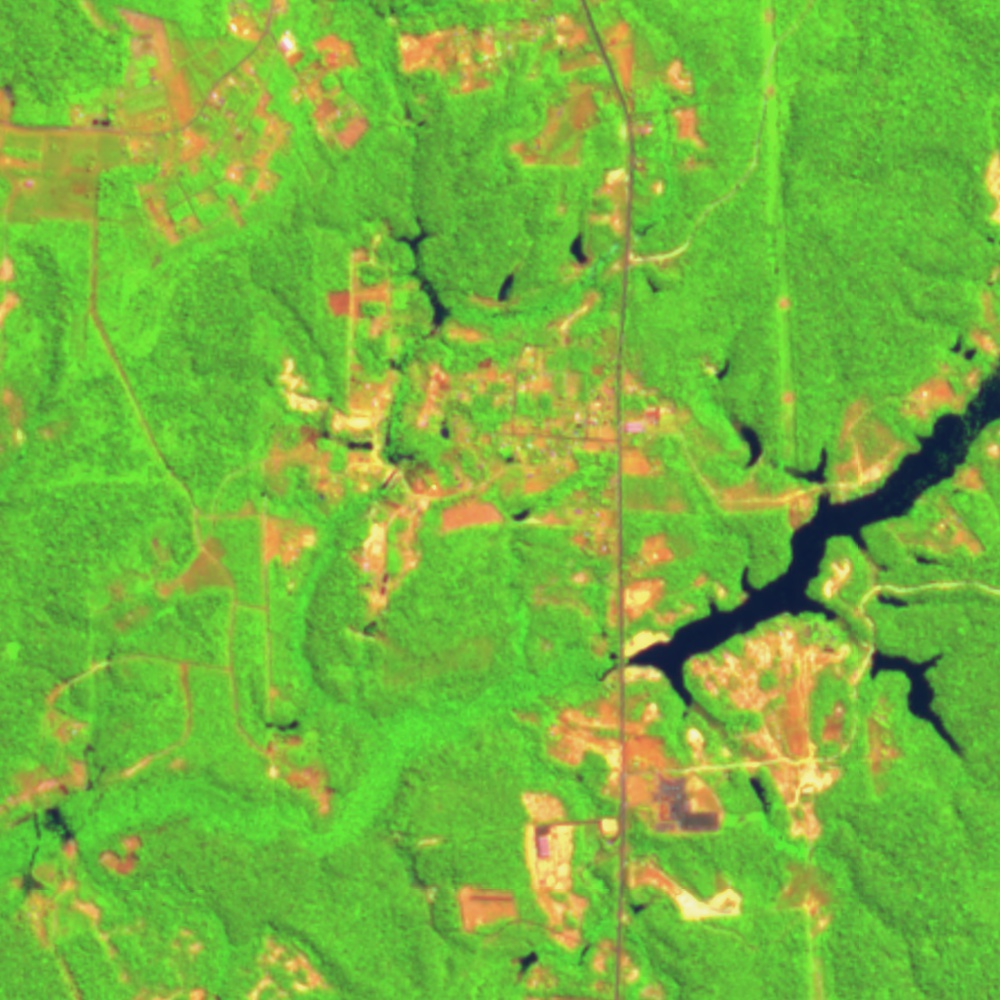legal: (255, 324, 699, 626), (1, 1, 375, 243), (395, 7, 709, 220), (8, 685, 211, 1000), (706, 365, 977, 534), (678, 615, 863, 848), (827, 447, 1000, 615), (523, 693, 727, 835), (109, 504, 321, 633), (320, 219, 486, 363), (517, 785, 618, 993), (904, 227, 1000, 430), (560, 509, 668, 689), (549, 213, 705, 333), (400, 814, 515, 942), (240, 716, 341, 816), (623, 846, 743, 928), (229, 923, 347, 1000), (1, 254, 34, 450), (772, 848, 841, 938), (478, 257, 529, 327), (863, 697, 901, 775), (560, 218, 606, 281), (979, 146, 1000, 224)
